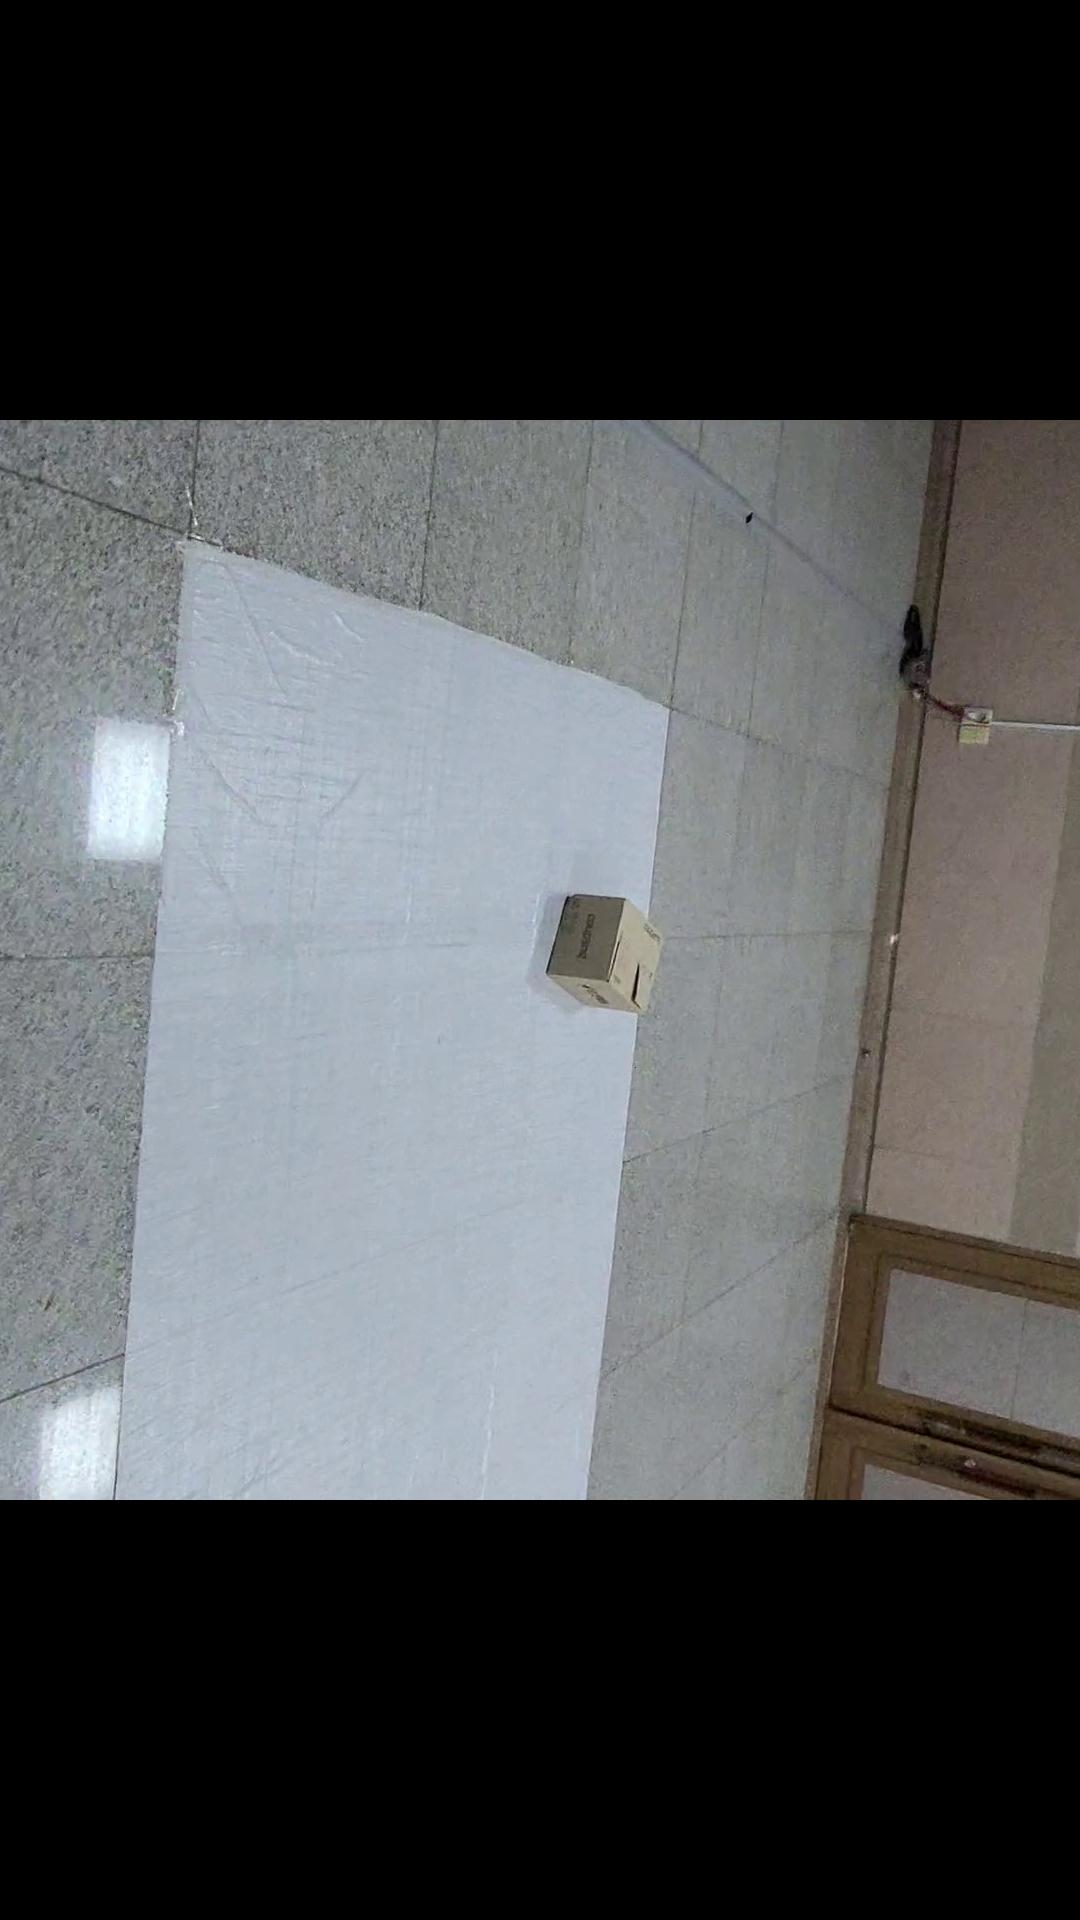Box: (518, 866, 690, 1060)
